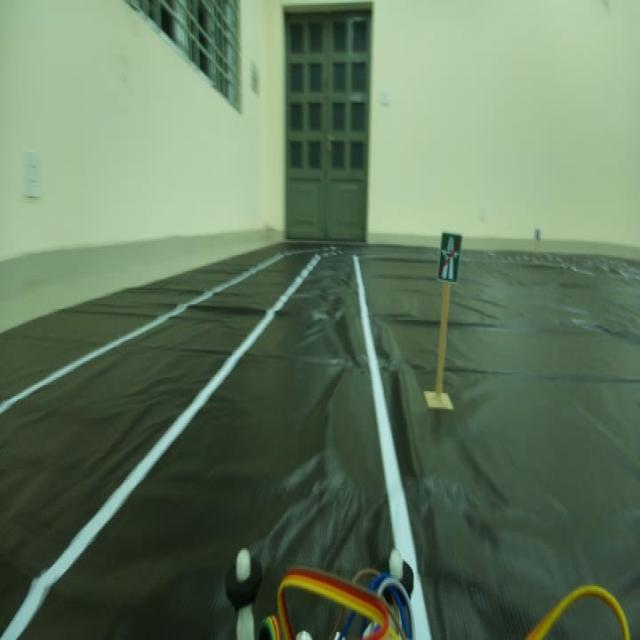highway_exit: (430, 218, 468, 298)
